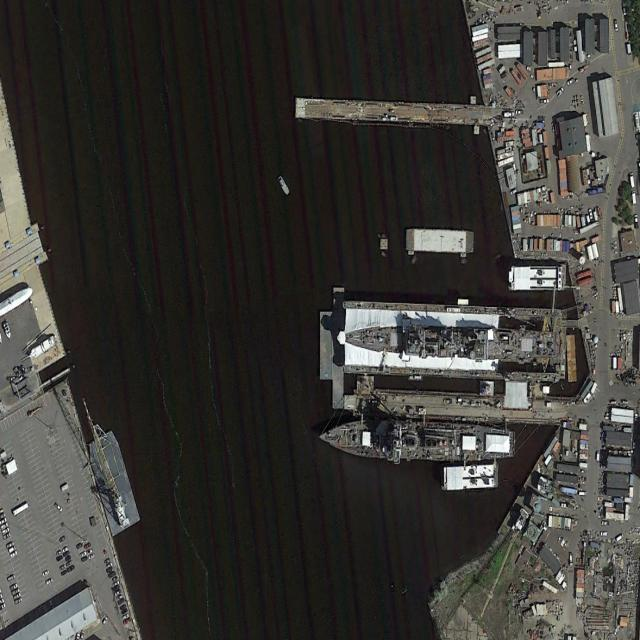Cruiser: (342, 323, 557, 359)
Destroyer: (317, 413, 515, 465)
Other Ship: (276, 173, 291, 197)
